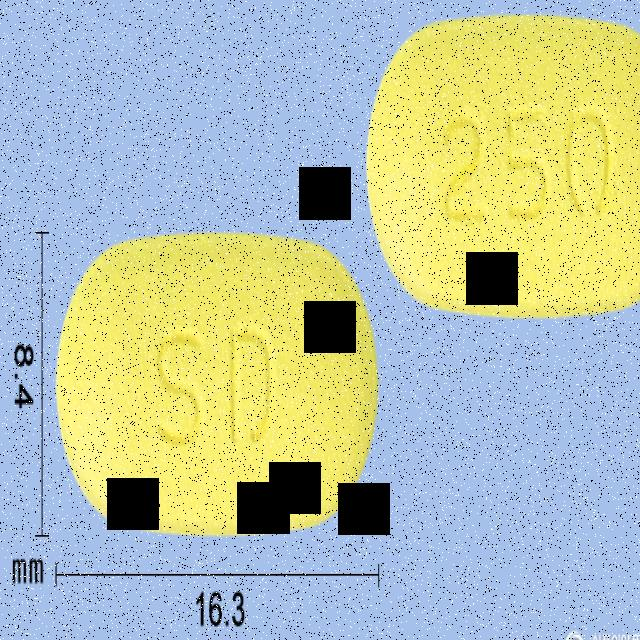Clabio - 500mg: (53, 225, 383, 547), (365, 10, 640, 325)
